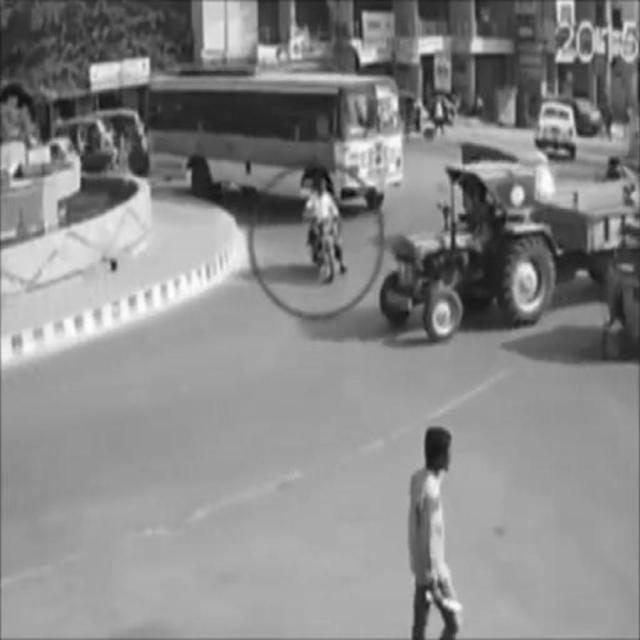person: (410, 419, 468, 639)
vehicle: (386, 159, 637, 339), (150, 73, 402, 210), (307, 175, 349, 286)
